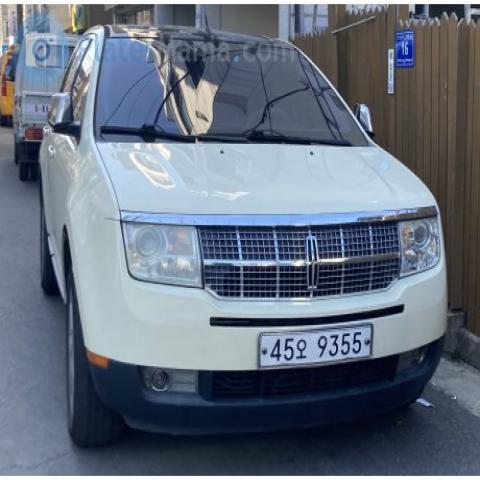LP: (253, 319, 376, 375)
